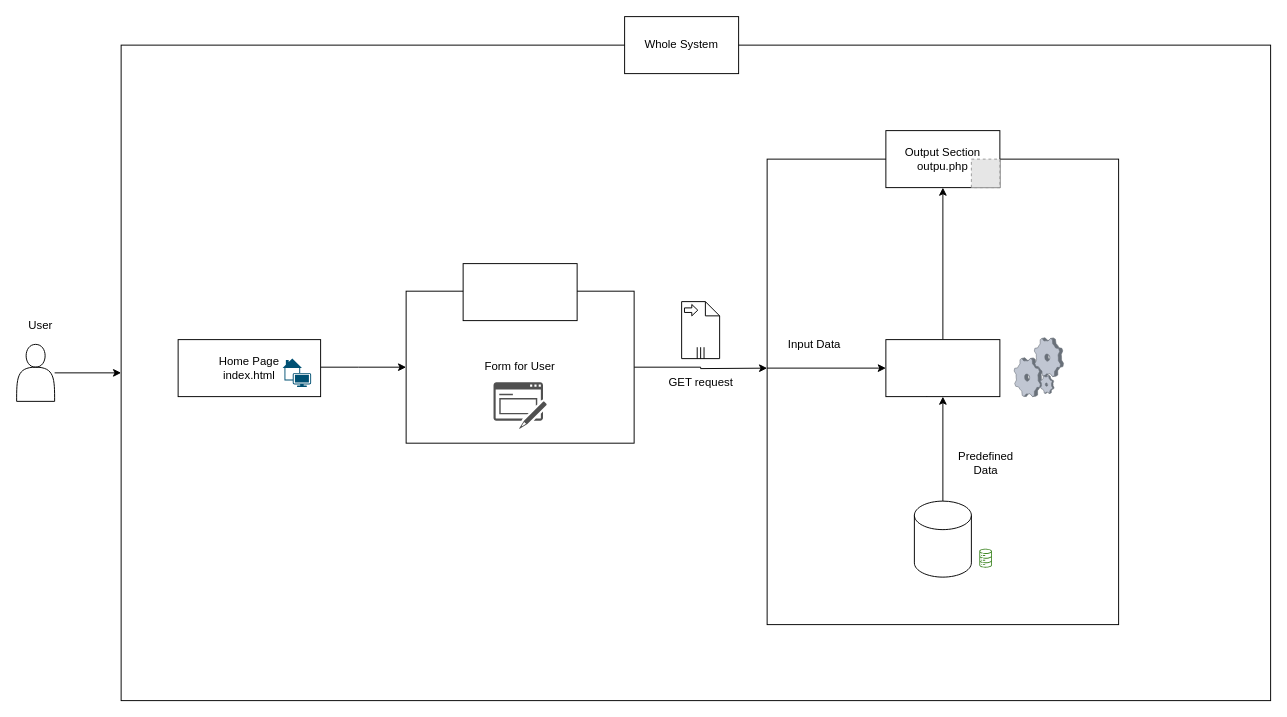
Some shapes in this 1287 by 717 pixel diagram are drawn without their labels. Grey dashed boxes stand in for pictures. The box of each missing label's shape, as (x1, y1, x2, y2) in pixels:
Data: (913, 500, 971, 577)
Input Section input.php: (462, 263, 577, 321)
Processing (Cosine Similarity) Algorithm: (885, 339, 1000, 397)
